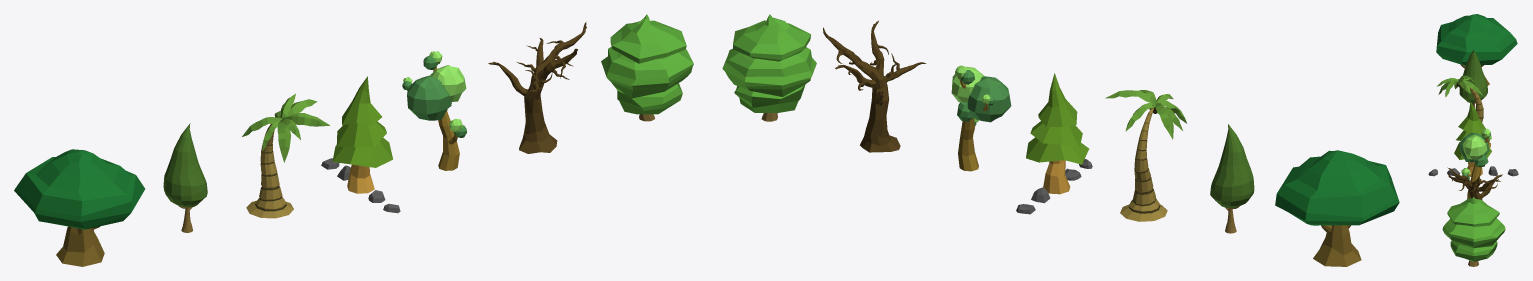
Rendered from deco.glb.
The picture shows the model from 3 angles, left to right: view 1: azimuth 30°, elevation 25°; view 2: azimuth 150°, elevation 25°; view 3: azimuth 270°, elevation 25°; orthographic projection. The views are drawn at different scales.
Parts seen in each view (by area): view 1: Circle.005, Circle.007, Circle.001, Circle, Circle.002, Circle.006, Circle.004; view 2: Circle.005, Circle.007, Circle.001, Circle, Circle.002, Circle.006, Circle.004; view 3: Circle.005, Circle.007, Circle, Circle.004, Circle.001, Circle.002, Circle.006, Object_5, Object_3.
Part boxes in pixels (x1,y1,x2,y2): Circle.005: [14, 149, 144, 266]; Circle.007: [601, 14, 693, 121]; Circle.001: [332, 76, 392, 193]; Circle: [402, 51, 466, 170]; Circle.002: [242, 93, 330, 218]; Circle.006: [488, 22, 586, 153]; Circle.004: [163, 123, 207, 207]; Circle.005: [1275, 150, 1399, 266]; Circle.007: [722, 14, 816, 121]; Circle.001: [1026, 73, 1089, 194]; Circle: [951, 65, 1011, 171]; Circle.002: [1105, 90, 1186, 221]; Circle.006: [823, 20, 926, 152]; Circle.004: [1210, 124, 1254, 207]; Circle.005: [1436, 14, 1517, 85]; Circle.007: [1442, 197, 1505, 266]; Circle: [1459, 128, 1491, 198]; Circle.004: [1459, 49, 1487, 103]; Circle.001: [1454, 101, 1491, 176]; Circle.002: [1437, 75, 1490, 147]; Circle.006: [1447, 167, 1502, 199]; Object_5: [1488, 166, 1497, 175]; Object_3: [1507, 169, 1518, 176].
Bounding box in the file's own units: 7594 × 1260 × 1377.
Materials: 22 (7 with a texture image).
